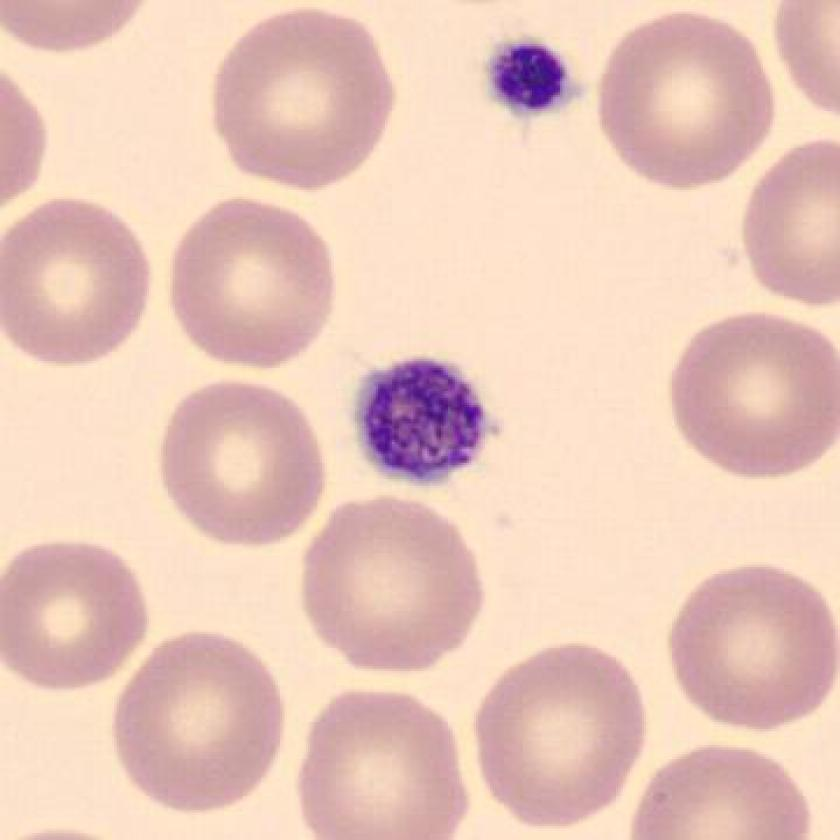platelets: (344, 348, 503, 494), (472, 26, 587, 133)
